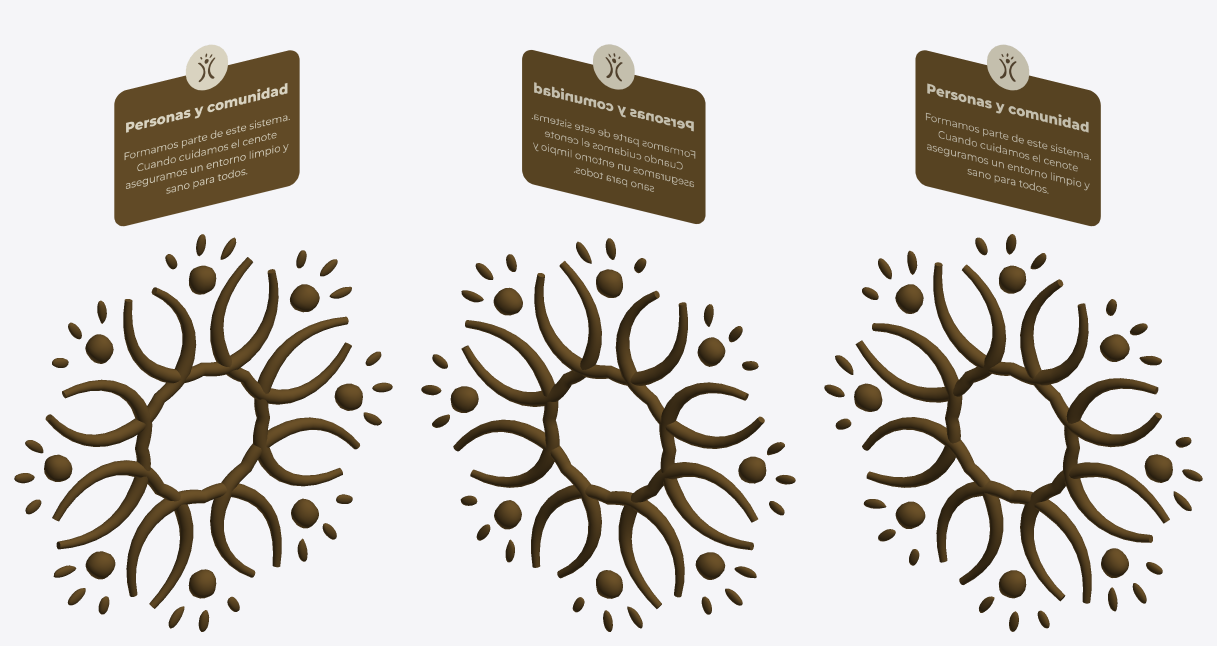
The model's file is comunidad-1.glb.
The picture shows the model from 3 angles, left to right: view 1: azimuth 30°, elevation 25°; view 2: azimuth 150°, elevation 25°; view 3: azimuth 330°, elevation 25°; orthographic projection.
Parts seen in each view (by area): view 1: 182.004, BézierCurve.039, BézierCurve.041, BézierCurve.042, BézierCurve.045, BézierCurve.043, BézierCurve.038, BézierCurve.040, BézierCurve.044, Cube.052, Cube.058, Cube.044 (+7 smaller); view 2: 182.004, BézierCurve.041, BézierCurve.042, BézierCurve.045, BézierCurve.039, BézierCurve.038, BézierCurve.040, BézierCurve.043, BézierCurve.044, Cube.052, Cube.058, Cube.044 (+7 smaller); view 3: 182.004, BézierCurve.038, BézierCurve.043, BézierCurve.040, BézierCurve.044, BézierCurve.041, BézierCurve.045, BézierCurve.042, BézierCurve.039, Cube.048, Cube.050, Cube.054 (+7 smaller).
Part boxes in pixels (x1,y1,x2,y2): 182.004: (114, 44, 299, 226); BézierCurve.039: (52, 460, 193, 608); BézierCurve.041: (56, 379, 152, 549); BézierCurve.042: (253, 316, 348, 486); BézierCurve.045: (210, 257, 351, 404); BézierCurve.043: (126, 482, 281, 596); BézierCurve.038: (123, 269, 278, 383); BézierCurve.040: (45, 287, 196, 446); BézierCurve.044: (210, 417, 359, 577); Cube.052: (188, 569, 216, 598); Cube.058: (189, 265, 216, 294); Cube.044: (85, 551, 115, 579); 182.004: (522, 44, 705, 223); BézierCurve.041: (659, 382, 753, 550); BézierCurve.042: (465, 320, 559, 487); BézierCurve.045: (461, 261, 601, 406); BézierCurve.039: (618, 462, 757, 608); BézierCurve.038: (534, 273, 687, 385); BézierCurve.040: (615, 290, 764, 448); BézierCurve.043: (531, 484, 684, 597); BézierCurve.044: (453, 419, 601, 578); Cube.052: (596, 570, 622, 598); Cube.058: (596, 269, 622, 297); Cube.044: (695, 552, 725, 579); 182.004: (915, 44, 1100, 226); BézierCurve.038: (933, 262, 1088, 385); BézierCurve.043: (936, 480, 1091, 603); BézierCurve.040: (855, 264, 1006, 402); BézierCurve.044: (1020, 462, 1169, 601); BézierCurve.041: (866, 323, 962, 487); BézierCurve.045: (1020, 279, 1161, 447); BézierCurve.042: (1063, 378, 1158, 542); BézierCurve.039: (862, 417, 1003, 584); Cube.048: (854, 383, 882, 411); Cube.050: (1144, 454, 1172, 482); Cube.054: (1101, 548, 1128, 577).
Bounding box in the file's own units: 0.6076 × 0.9143 × 0.0372.
Materials: 2 (1 with a texture image).
